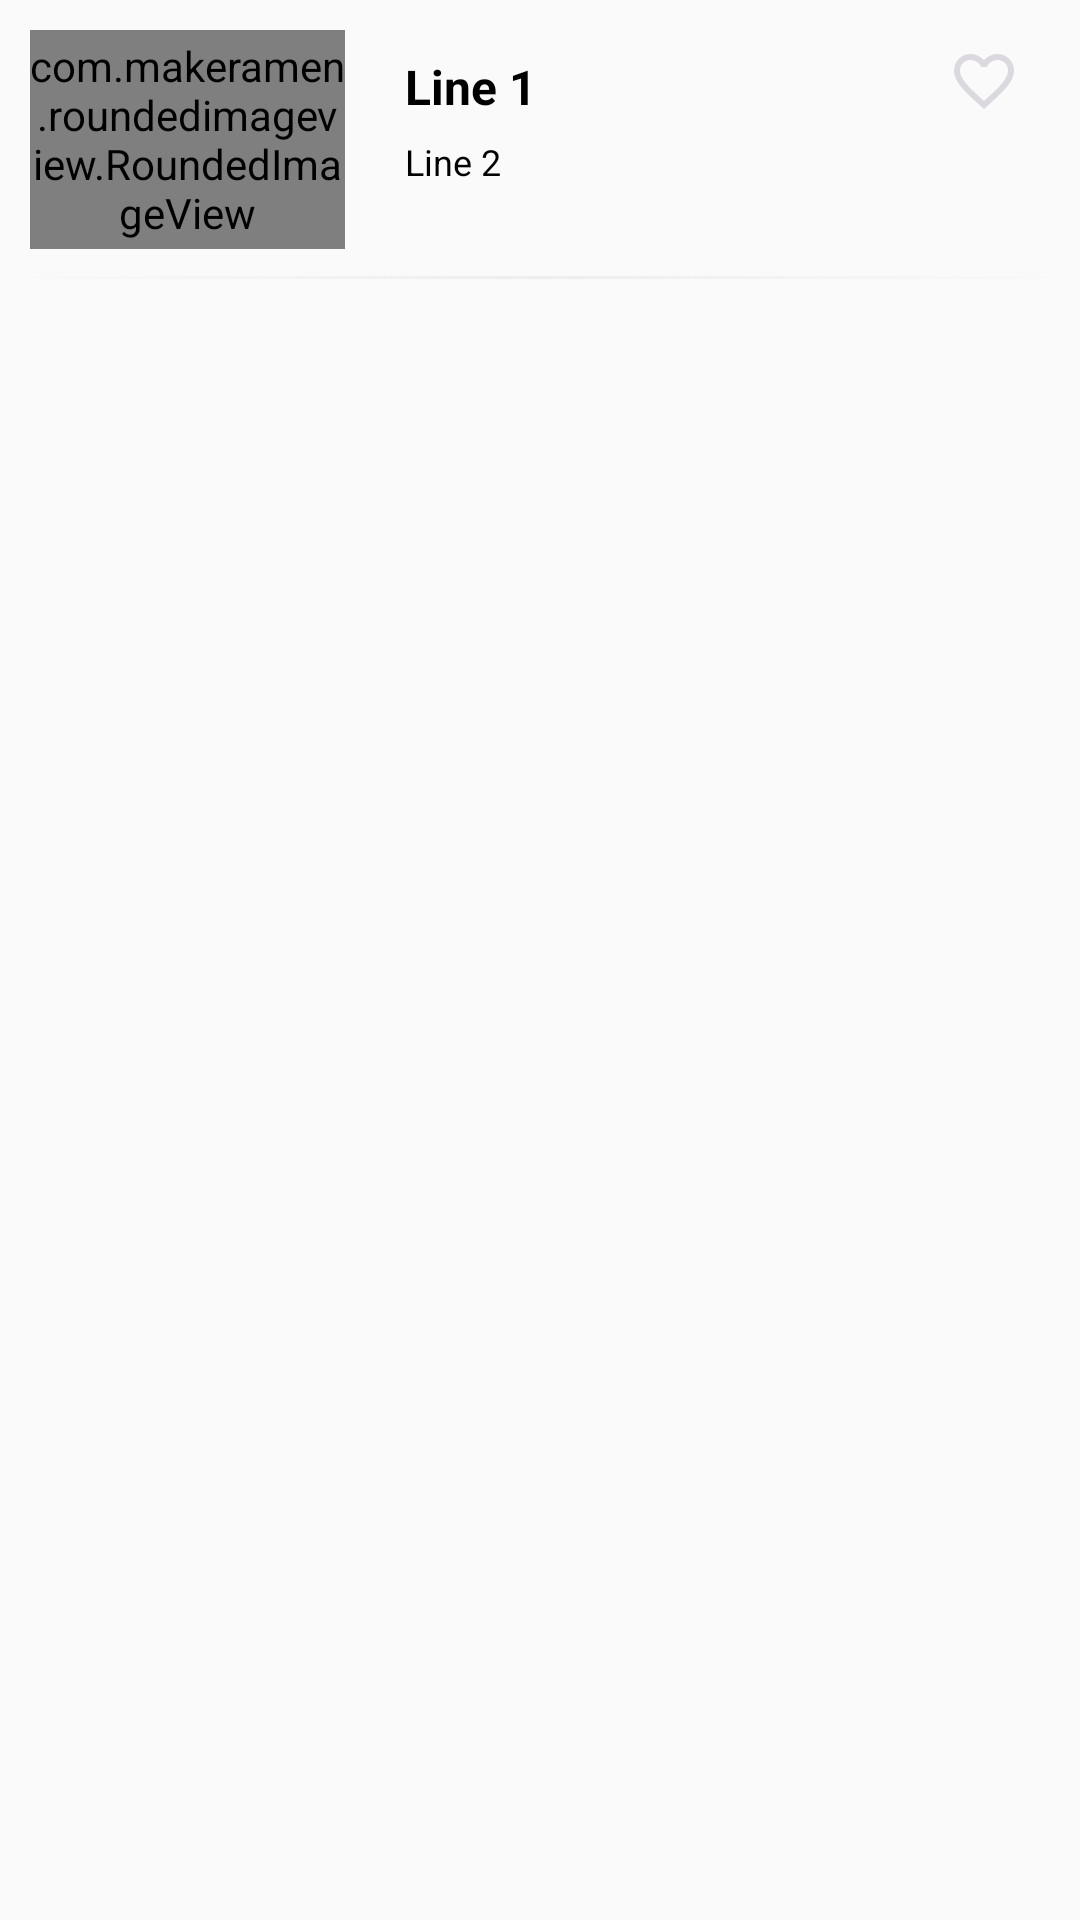

Named icons in this screenshot (1080×1920) and their bounding boxes, (x1, y1, x2, y2):
favorite border: (954, 54, 1014, 108)
